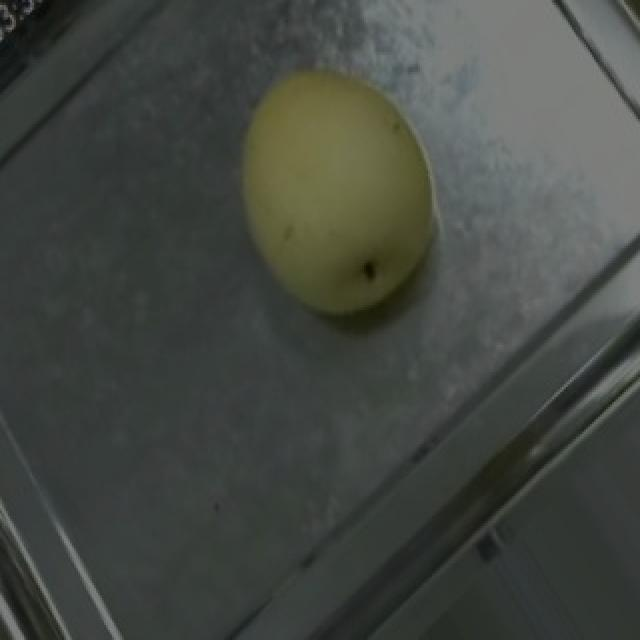Fruit: (190, 27, 486, 357)
